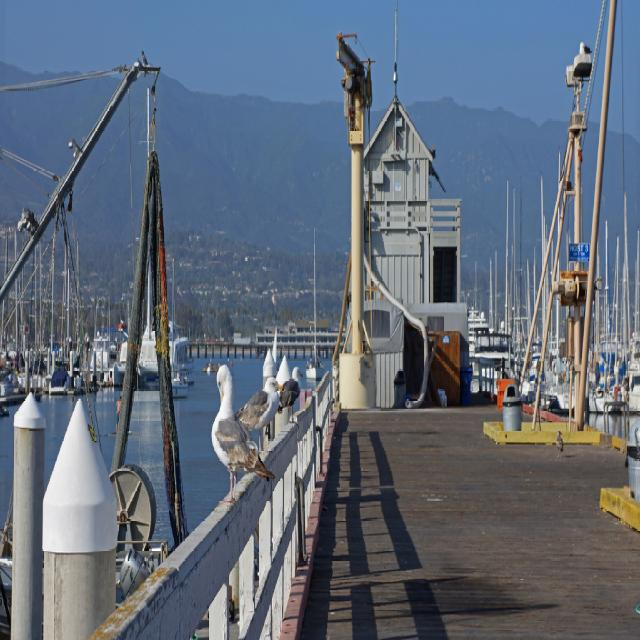Boat: (485, 155, 640, 412), (2, 214, 123, 404), (118, 254, 196, 387)
